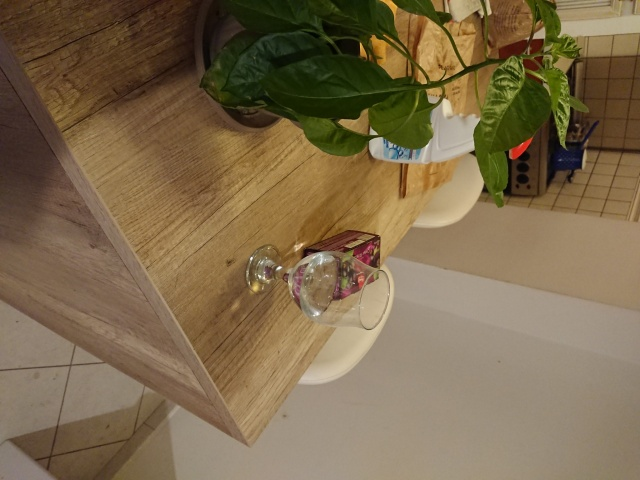Franck Black Currant Tea 60g: (297, 227, 384, 305)
